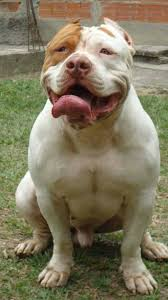Perro Pitbull: (21, 9, 159, 279)
